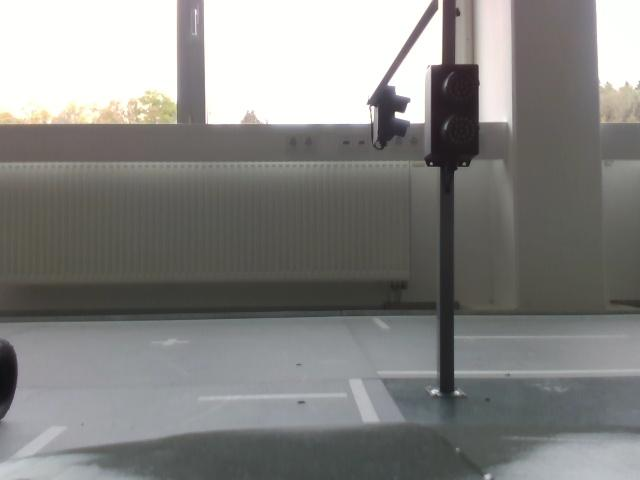traffic light: (414, 57, 498, 175), (367, 71, 414, 156)
